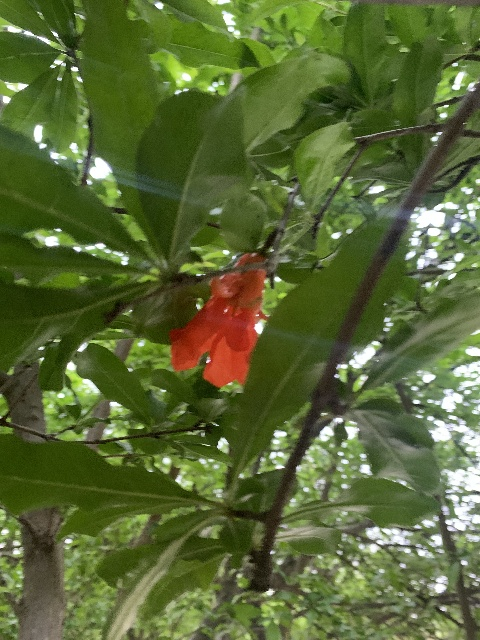flower: (169, 252, 270, 388)
